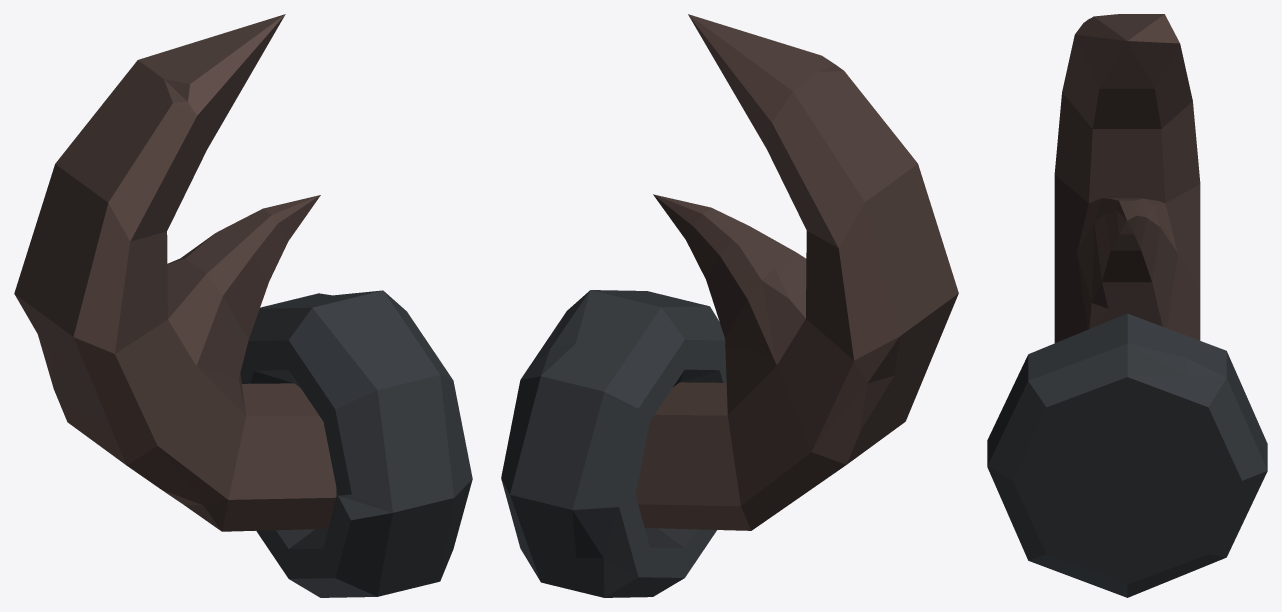
File: SM_Bld_Roof_Trim_Cap_05.fbx
3 views of the same model, side by side, from view 1: azimuth 30°, elevation 25°; view 2: azimuth 150°, elevation 25°; view 3: azimuth 270°, elevation 25° (orthographic). The views are drawn at different scales.
Visible parts, largest first — view 1: SM_Bld_Roof_Trim_Cap_05; view 2: SM_Bld_Roof_Trim_Cap_05; view 3: SM_Bld_Roof_Trim_Cap_05.
Boxes of the visible parts, bbox=[...] form: SM_Bld_Roof_Trim_Cap_05: bbox=[14, 14, 472, 597]; SM_Bld_Roof_Trim_Cap_05: bbox=[501, 14, 958, 597]; SM_Bld_Roof_Trim_Cap_05: bbox=[987, 14, 1267, 597].
Size of the model in its own units: 51.07 by 79.64 by 39.29.
